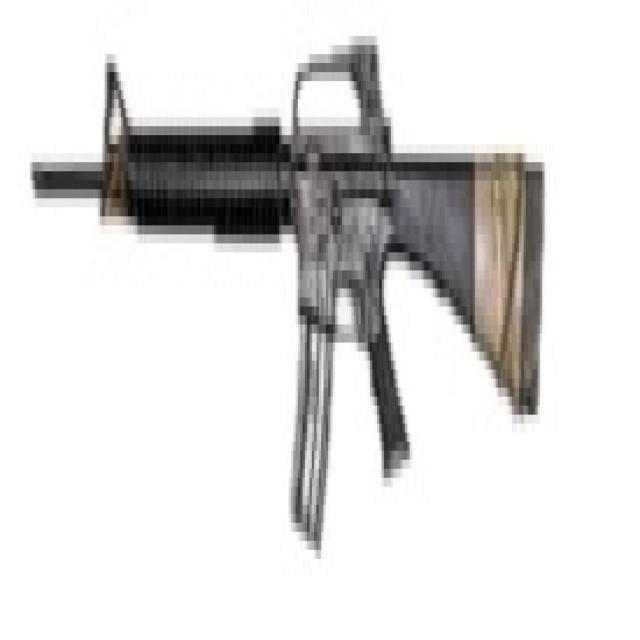rifle: (26, 12, 550, 589)
